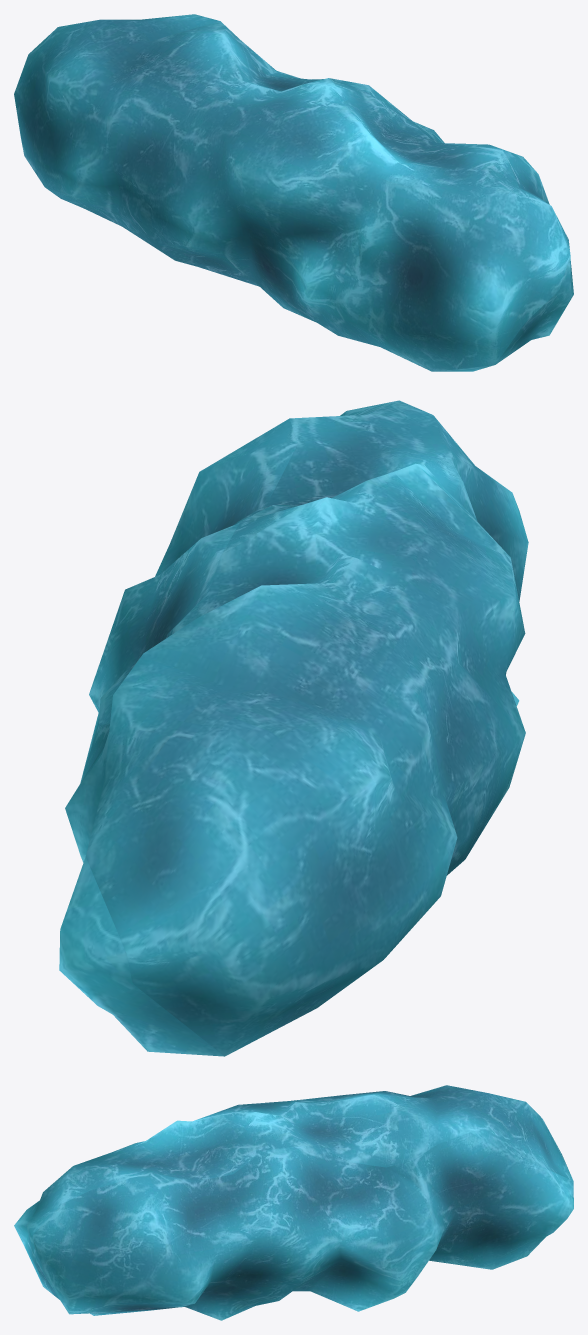
3 renders of one model, top to bottom at view 1: azimuth 30°, elevation 25°; view 2: azimuth 150°, elevation 25°; view 3: azimuth 270°, elevation 25°, orthographic. The views are drawn at different scales.
Parts seen in each view (by area): view 1: rock_low; view 2: rock_low; view 3: rock_low.
Part boxes in pixels (bbox=[...]): rock_low: bbox=[14, 14, 573, 371]; rock_low: bbox=[59, 400, 528, 1056]; rock_low: bbox=[14, 1085, 573, 1320].
Size of the model in its own units: 1.07 by 0.7724 by 2.
Materials: 1 (1 with a texture image).
